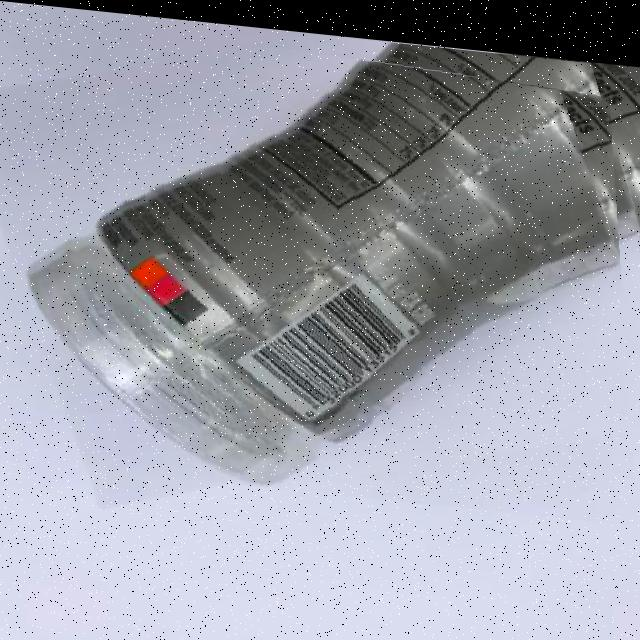plasticbottle: (0, 0, 640, 511)
